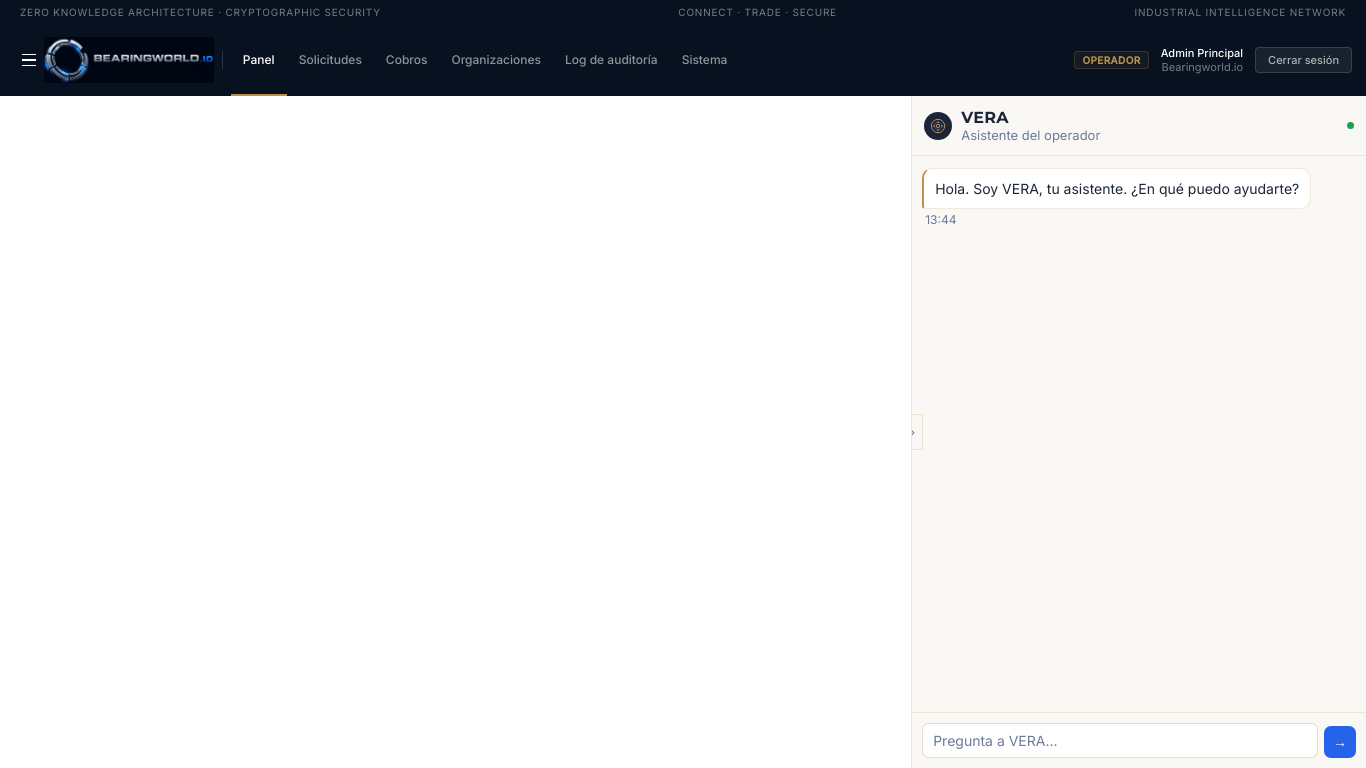
OperatorShell › monta VERA desconectada -sin agente-, con su propio subtítulo
Expected: the text "Asistente del operador" is shown, [961, 127, 1100, 143]
Sin `agent`, VeraPanel no lo dice hasta que se le pregunta algo.
In the text box labelled "Pregunta a VERA": (1120, 740) [922, 723, 1318, 758], type "¿cuántas pendientes hay?"
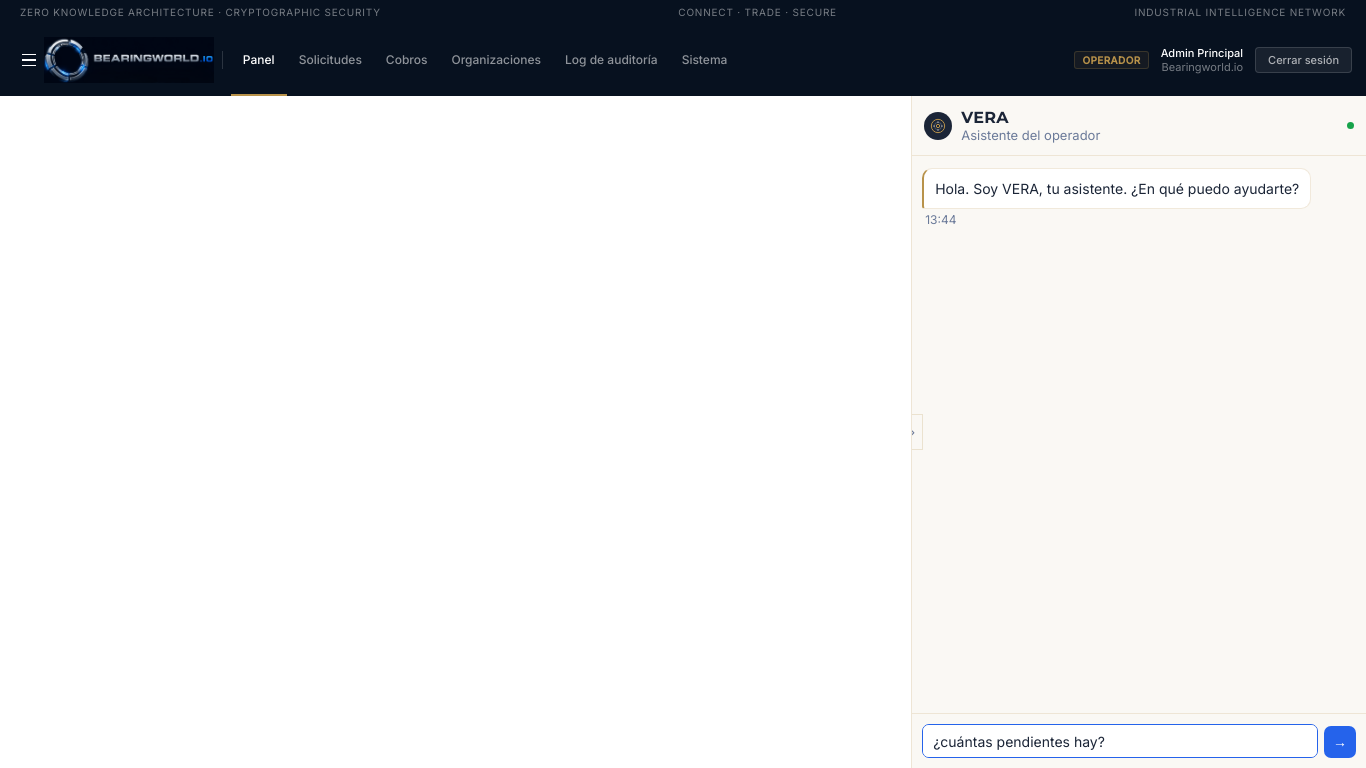
Click the button named "Enviar": (1340, 742) [1324, 726, 1356, 758]
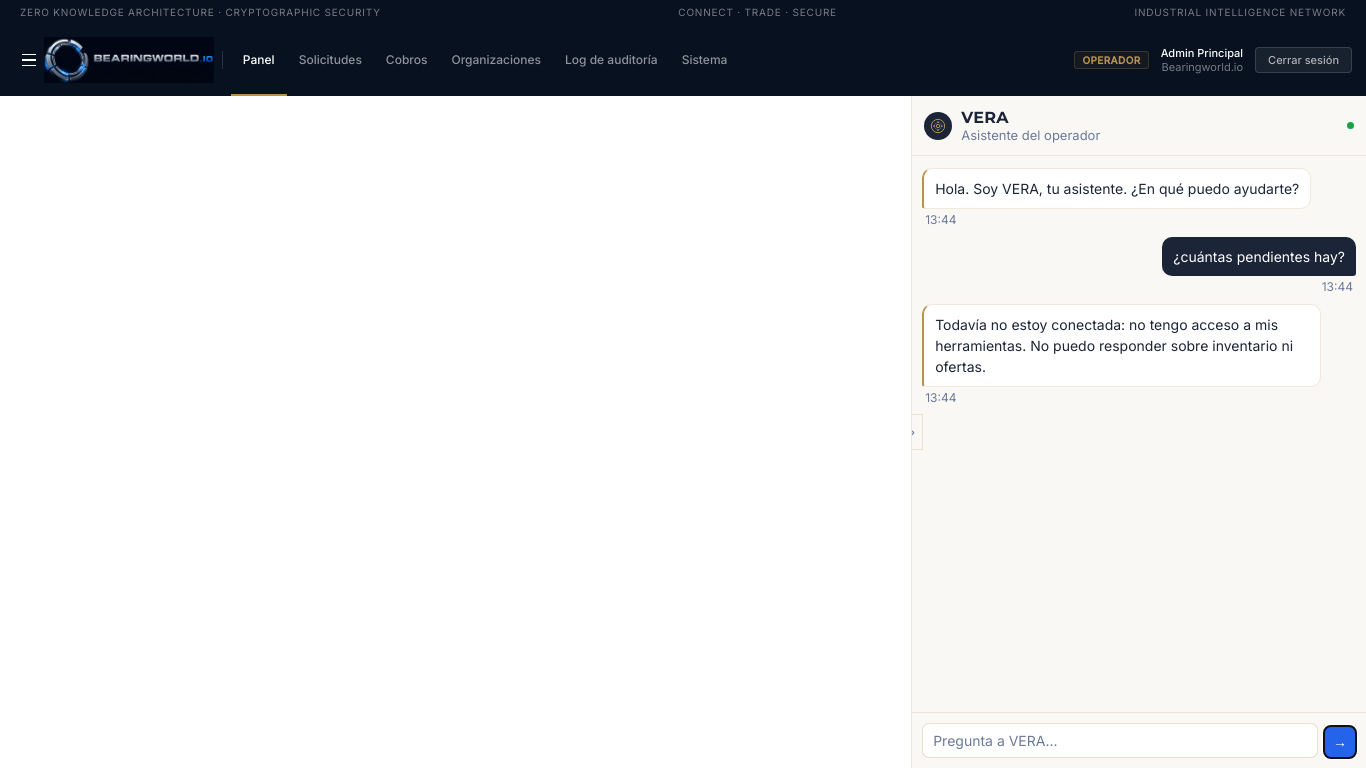
Result: the text "Todavía no estoy conectada" is shown at [935, 316, 1297, 375]
